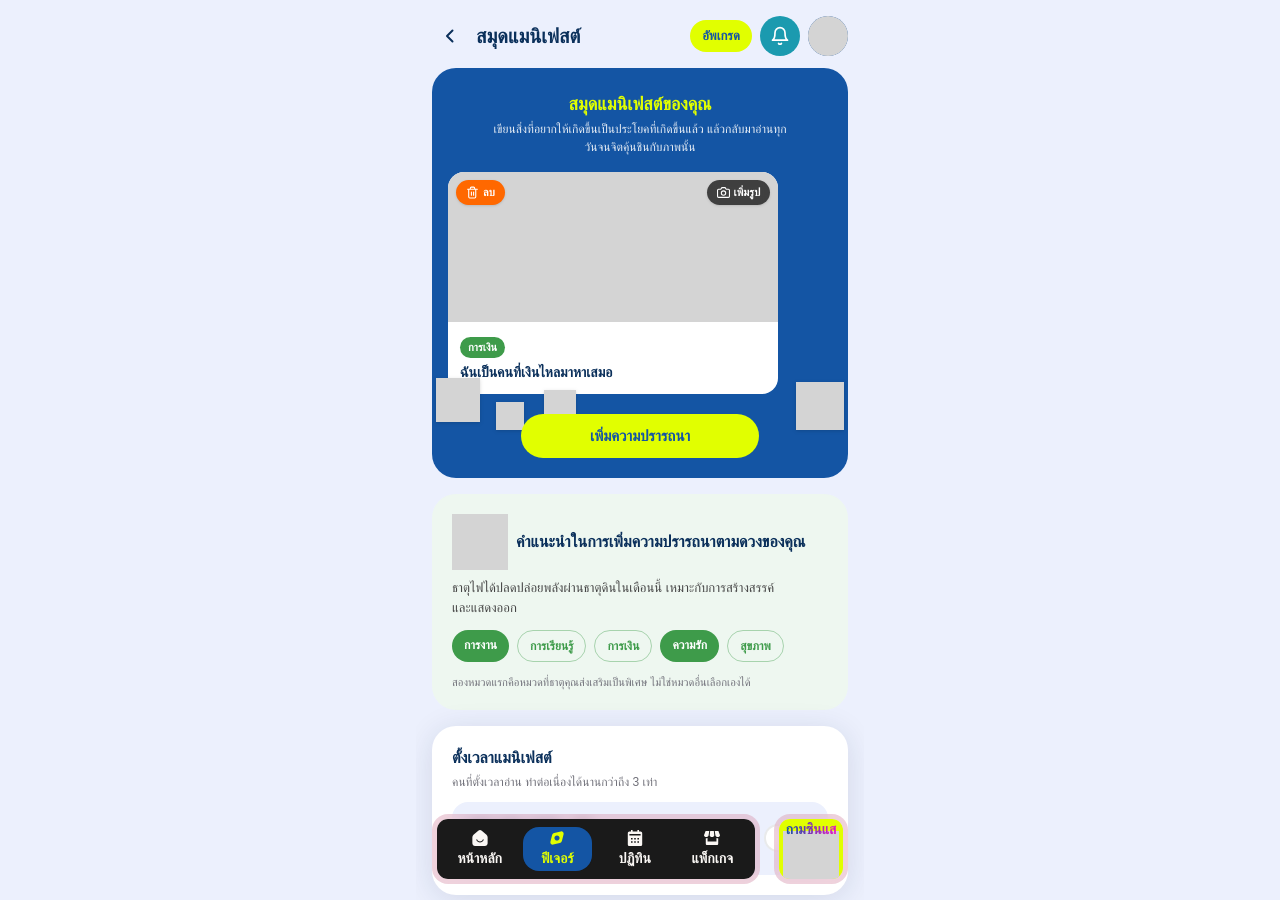
จอสมุดแมนิเฟสต์ (rebuilt) › P3-18: กด "ลบ" ต้องถามยืนยันก่อน (ไม่ลบทันที) — ยกเลิกแล้วไม่ยิง DELETE
Click the button with test id "manifest-delete" at x=480, y=192, box 456,180 -> 505,204
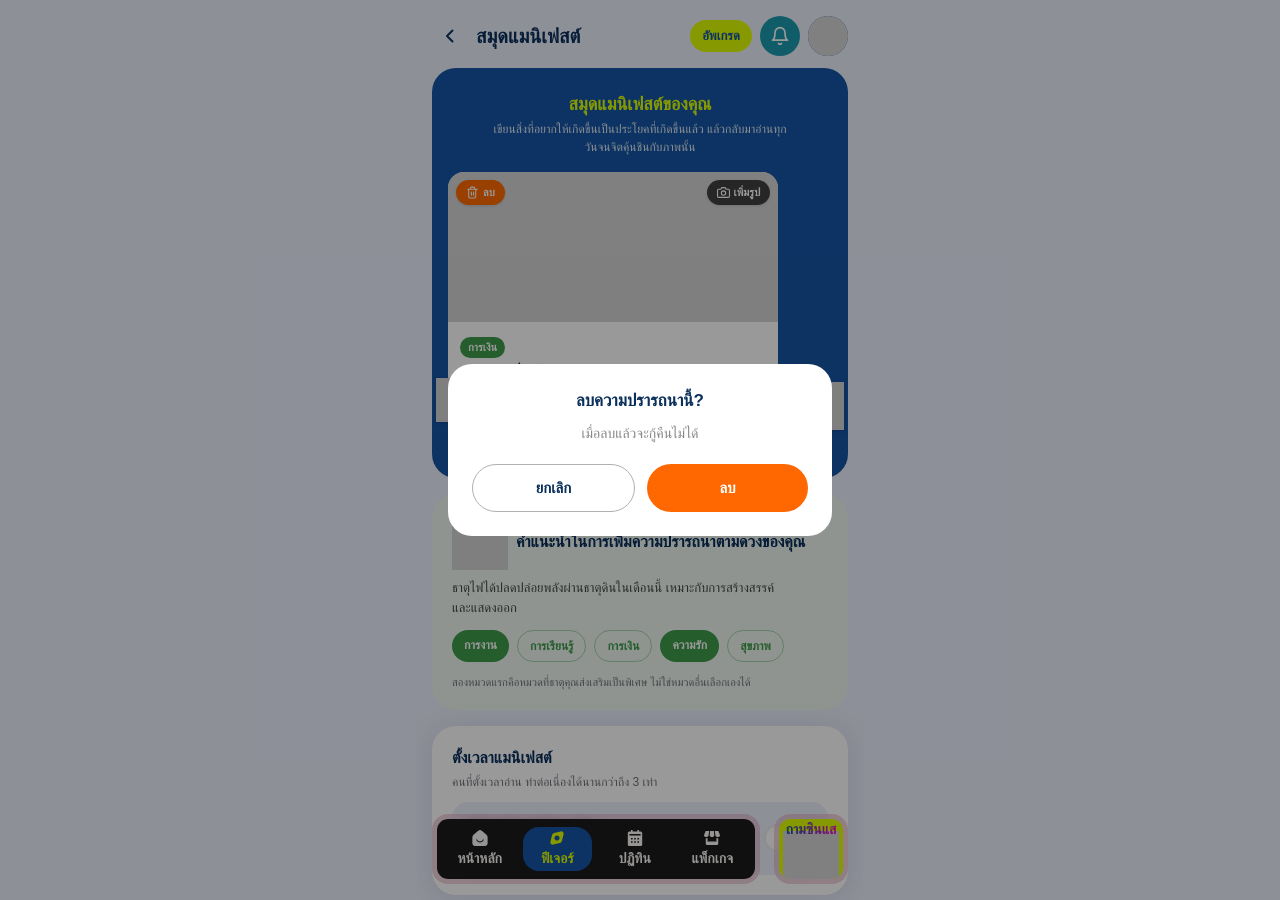
Expected: the element with test id "manifest-delete-confirm" is shown, 448,364 -> 832,536
Click the button with test id "manifest-delete-cancel" at x=554, y=488, box 472,464 -> 635,512
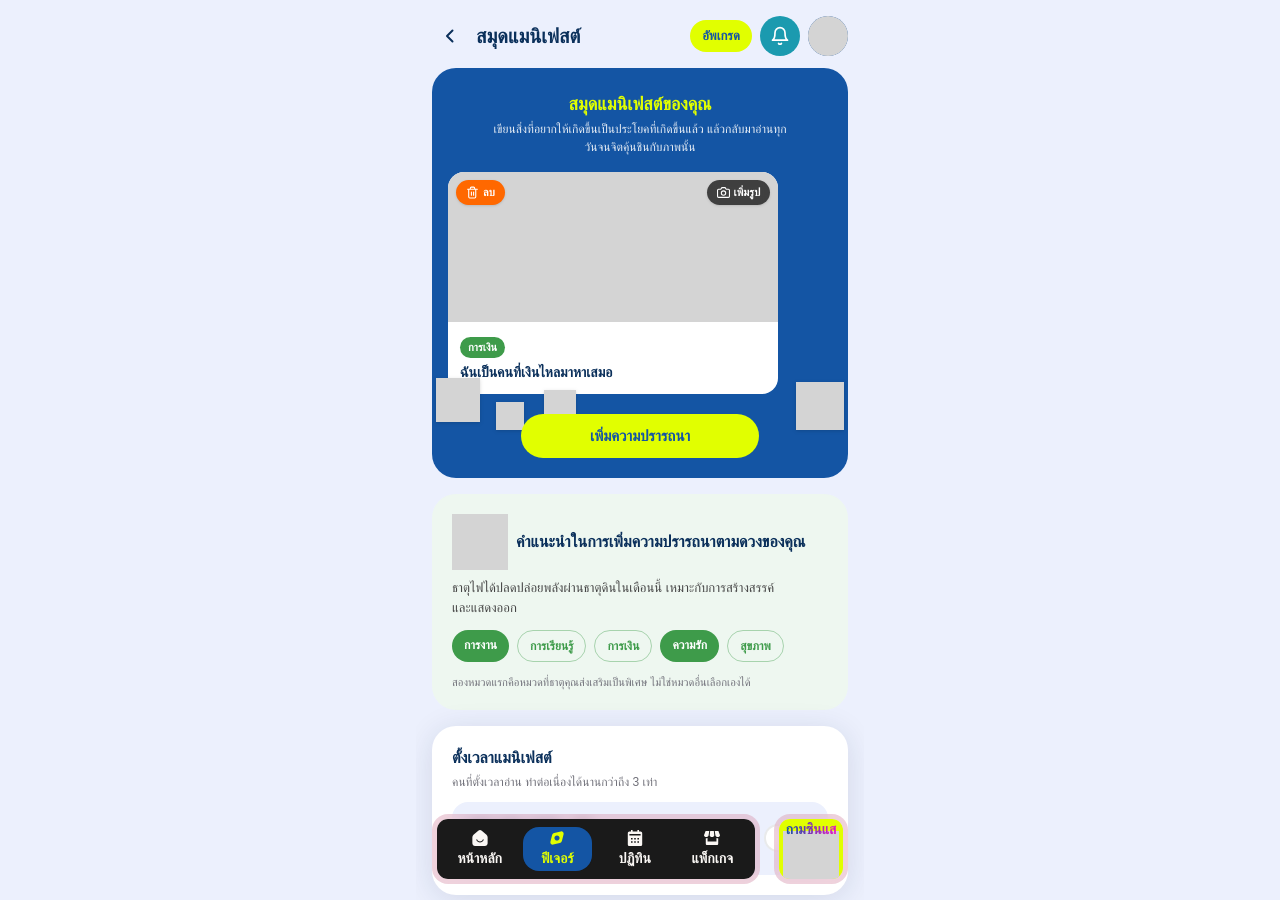
Expected: the element with test id "manifest-delete-confirm" is gone
